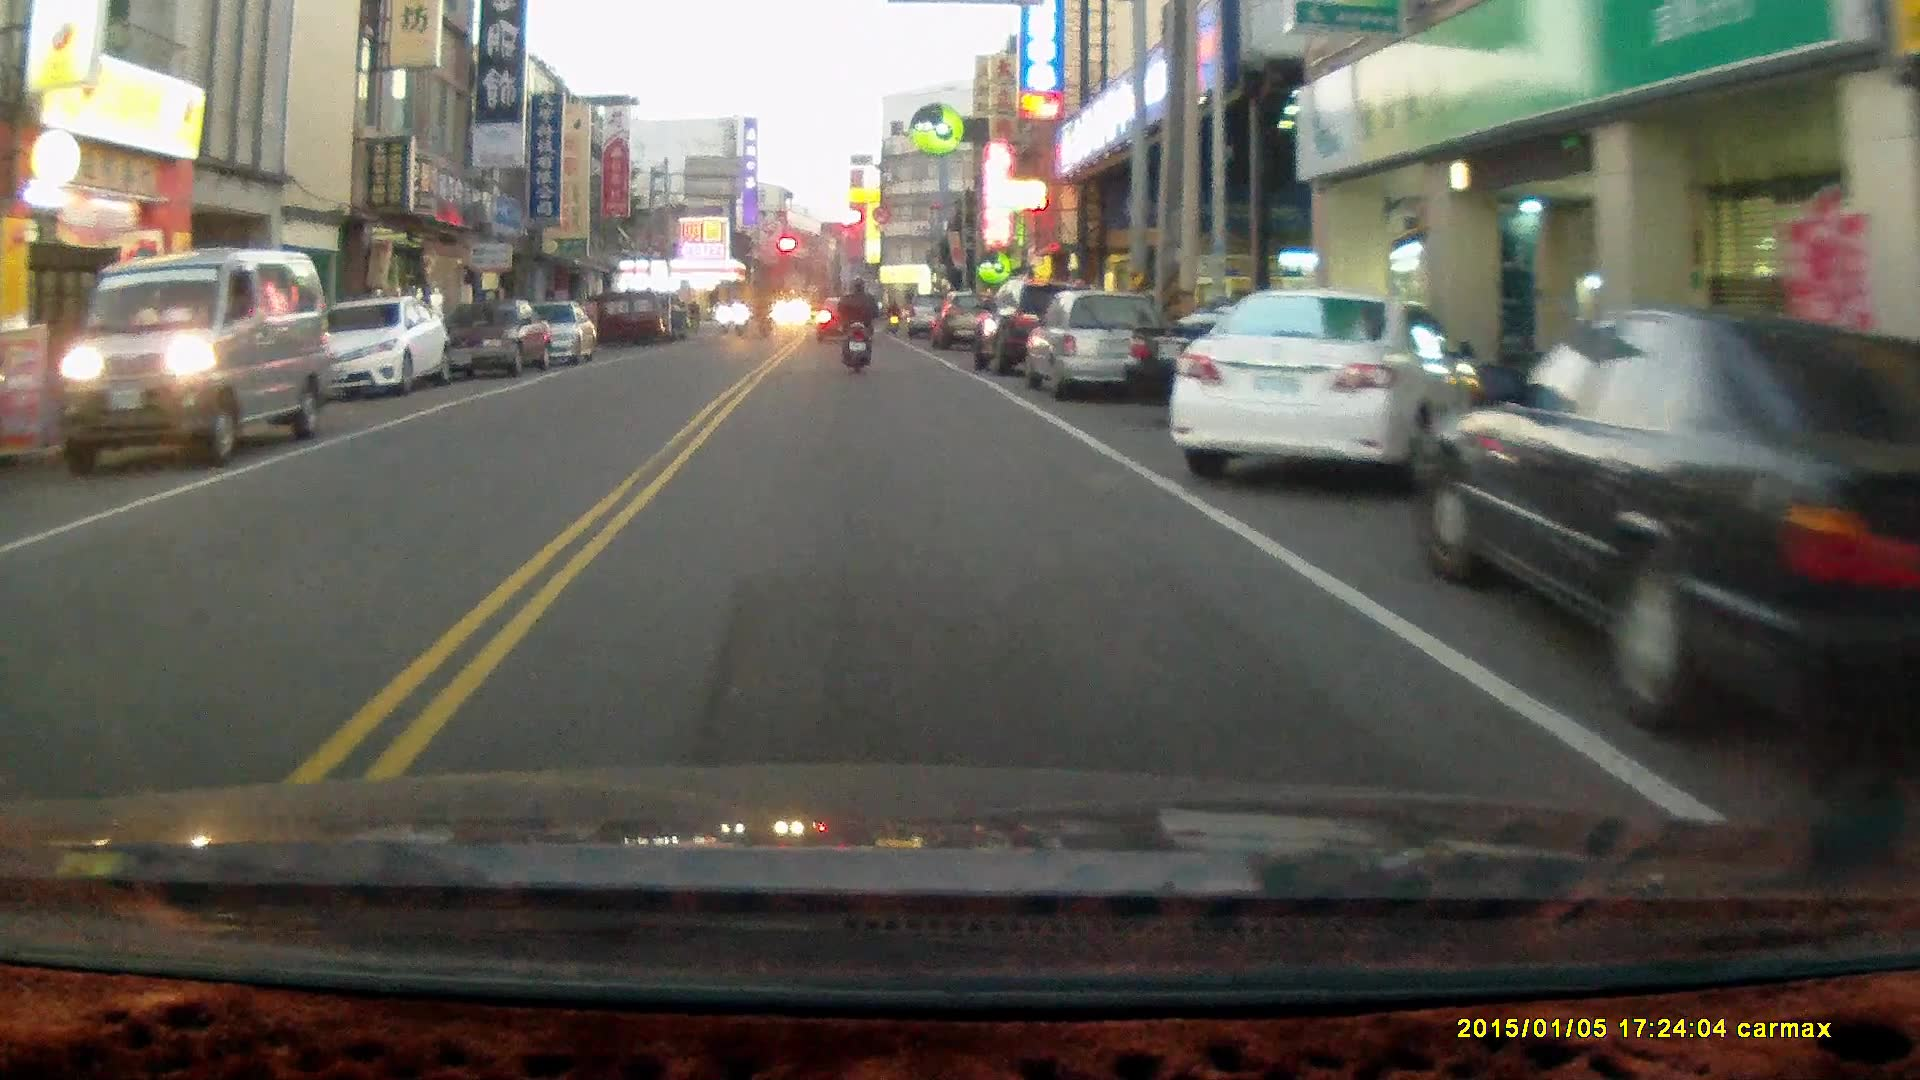rider: (835, 277, 880, 378), (728, 298, 751, 336)
vehicle: (1412, 309, 1920, 756), (1168, 290, 1472, 496), (56, 247, 332, 469), (1121, 303, 1429, 432), (1024, 293, 1171, 395), (307, 295, 451, 400), (966, 286, 1110, 381), (438, 298, 556, 384), (505, 302, 597, 374)
